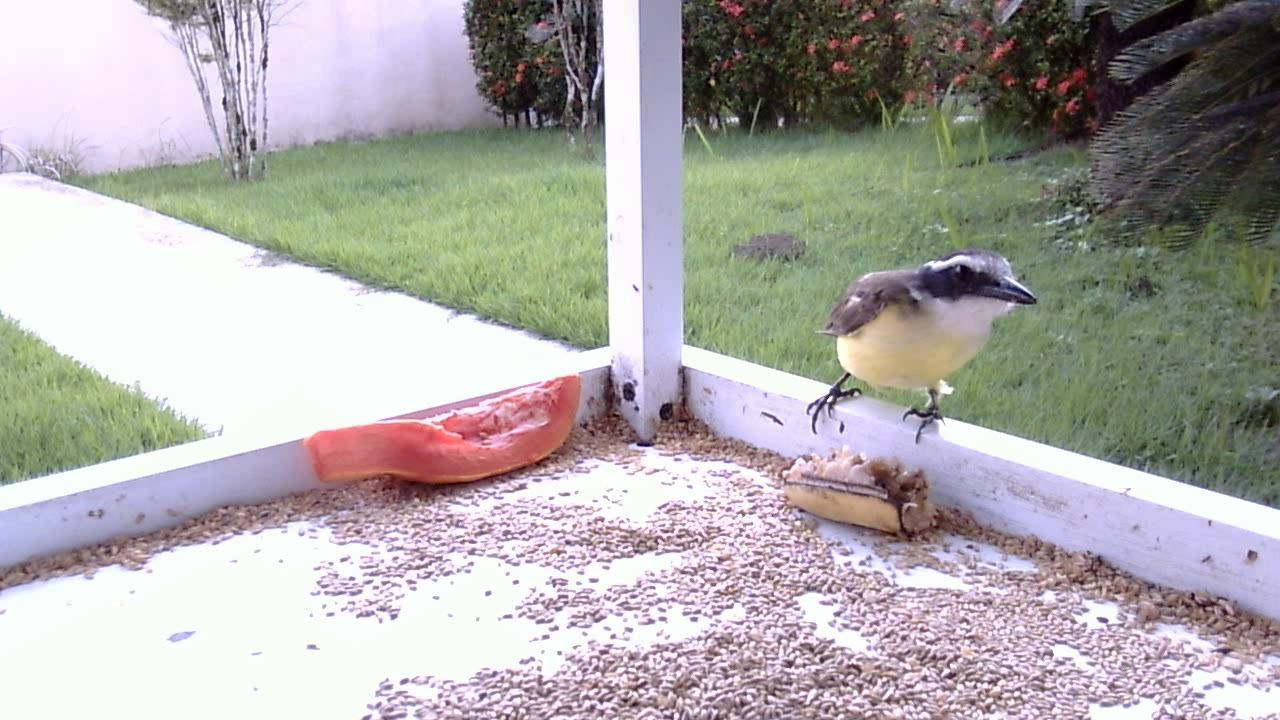bem_te_vi: (797, 242, 1037, 451)
